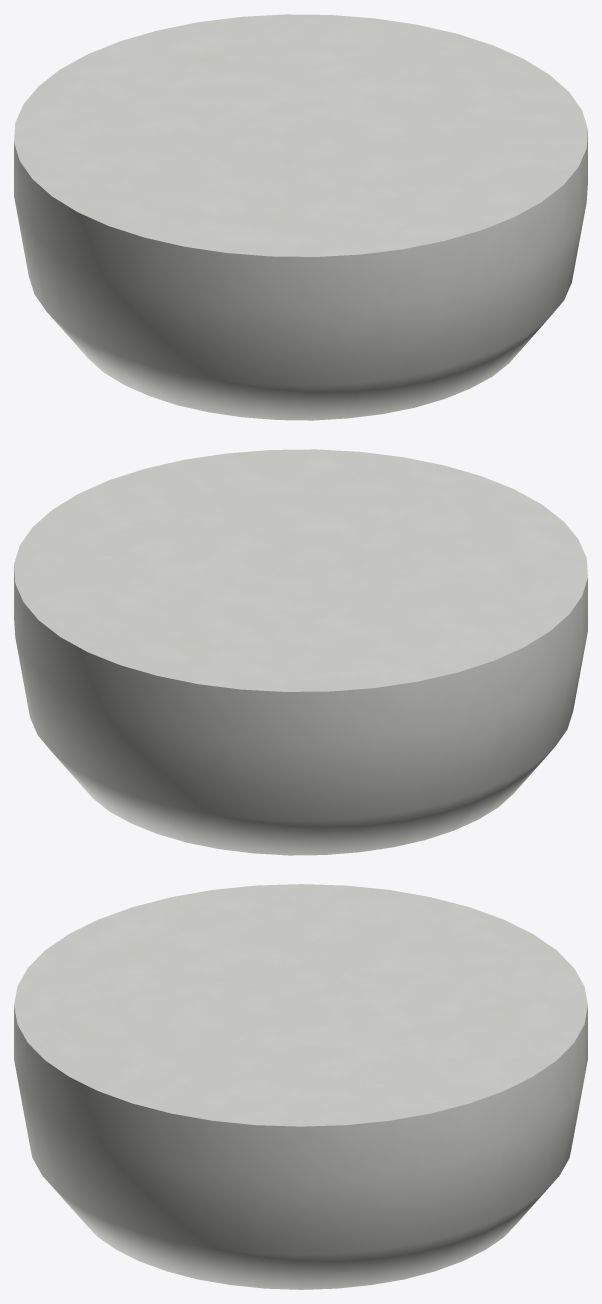
Rendered from SmokeDetector.obj.
3 renders of one model, top to bottom at view 1: azimuth 30°, elevation 25°; view 2: azimuth 150°, elevation 25°; view 3: azimuth 270°, elevation 25°, orthographic.
Visible parts, largest first — view 1: Body; view 2: Body; view 3: Body.
Part boxes in pixels (x1,y1,x2,y2): Body: (14, 14, 587, 420); Body: (14, 449, 587, 855); Body: (14, 884, 587, 1289).
Bounding box in the file's own units: 0.116 × 0.045 × 0.116.
3 materials, 1 textured.
